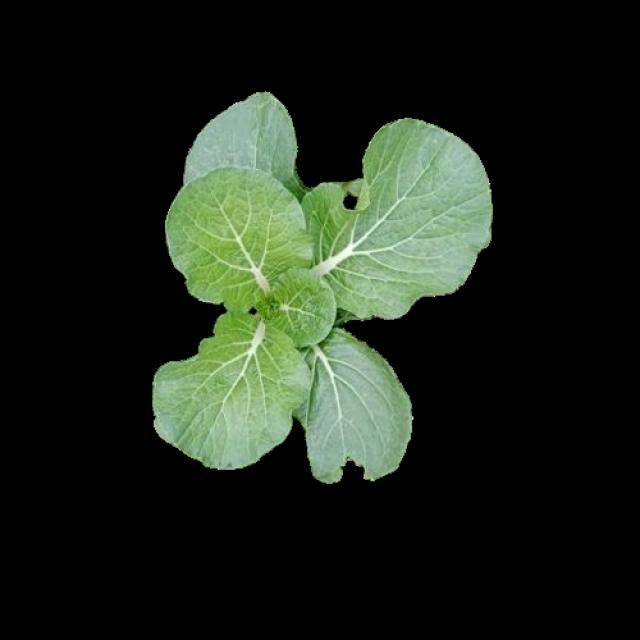not-mature: (155, 94, 493, 482)
unhealthy: (310, 118, 494, 320), (297, 328, 417, 480), (184, 95, 300, 188)
